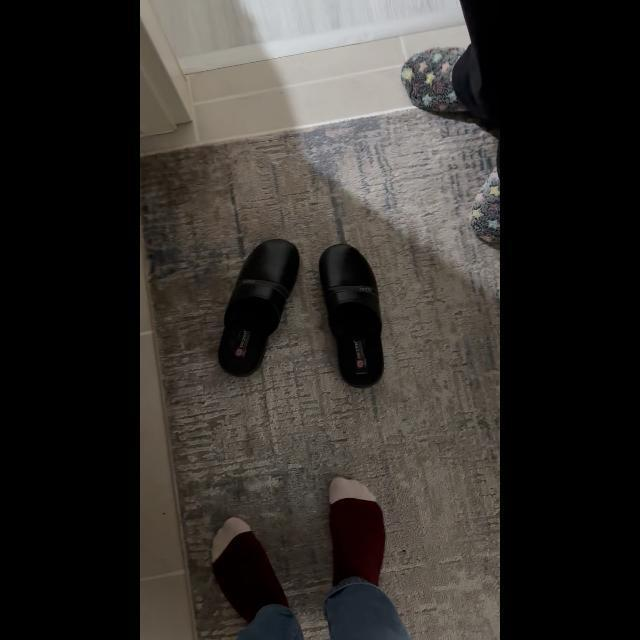slipper: (210, 230, 304, 382), (313, 240, 392, 390)
